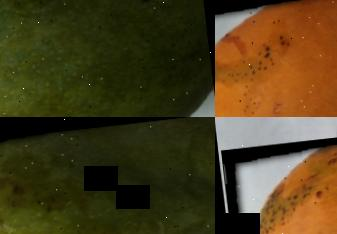Ripe: (215, 0, 337, 117), (222, 122, 337, 234)
Unripe: (0, 0, 215, 117), (0, 117, 215, 234)
